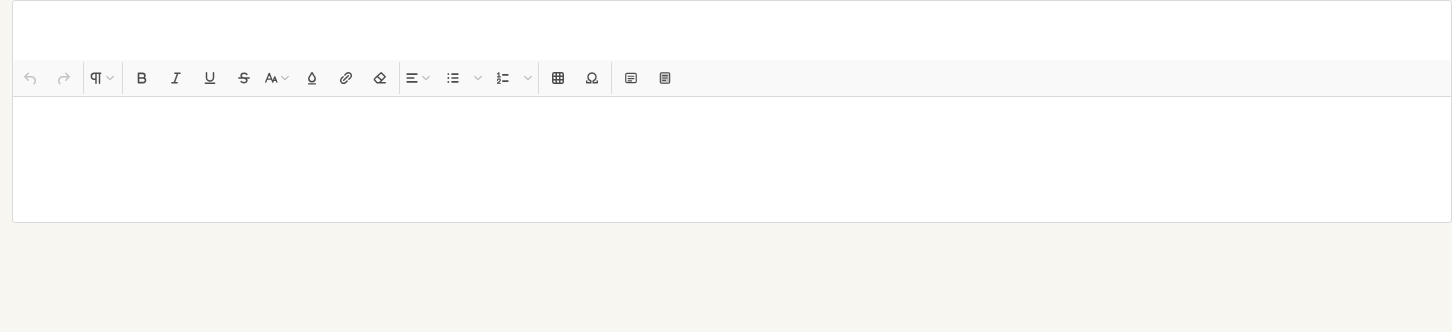
Test: special characters › replaces the selection, closes, and arrows move through the grid
This screenshot has width=1452, height=332.
Click the button named "Maxsus belgilar" at [592, 78], box [575,61,609,95]
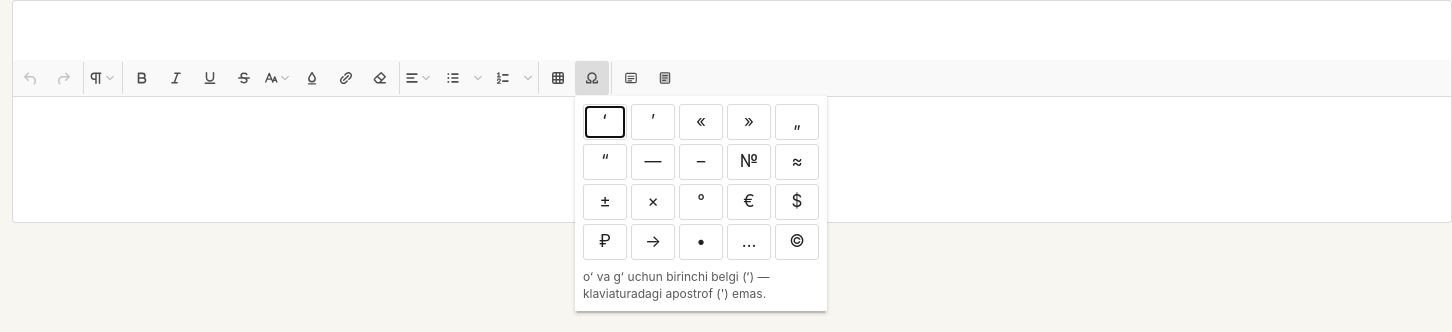
Press ArrowRight in the menu item with class "rich-editor__symbol" showing "ʻ", box [583,104,627,140]
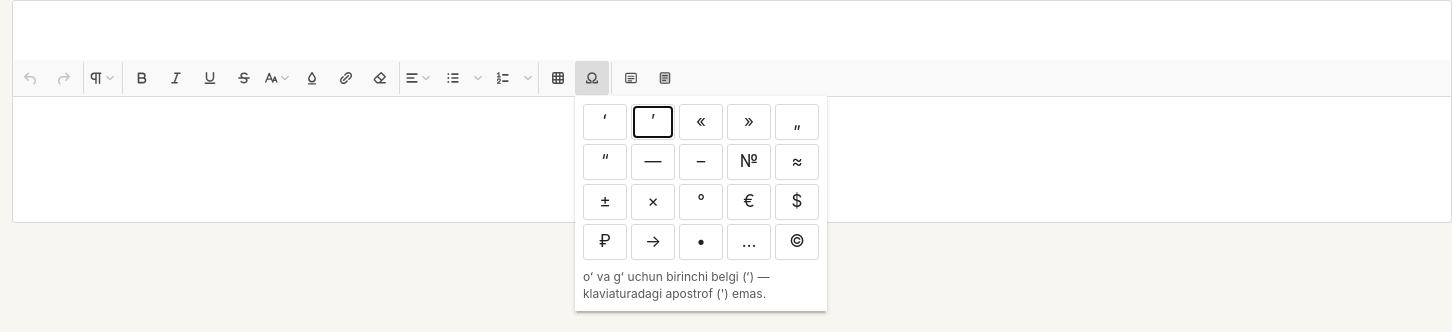
Press ArrowDown in the menu item with class "rich-editor__symbol" showing "ʼ", box [631,104,675,140]
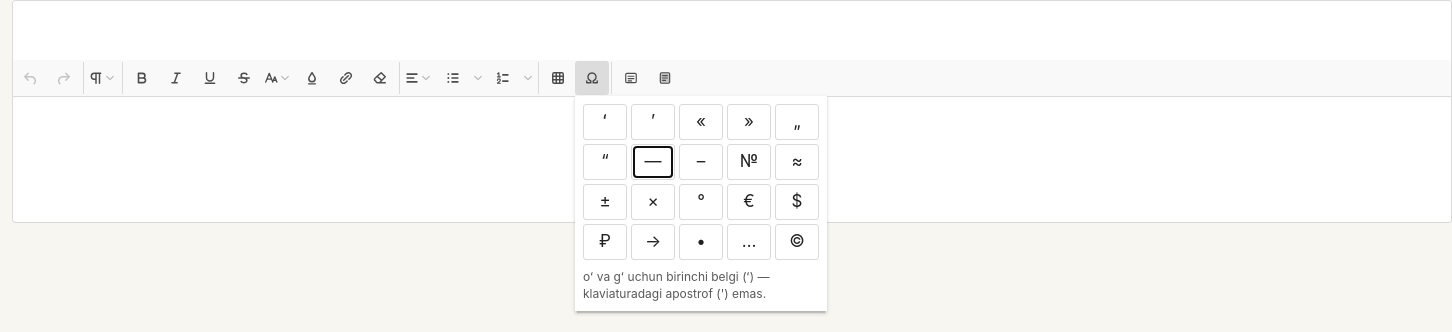
Click the menu item with class "rich-editor__symbol" showing "—" at [653, 162], box [631,144,675,180]
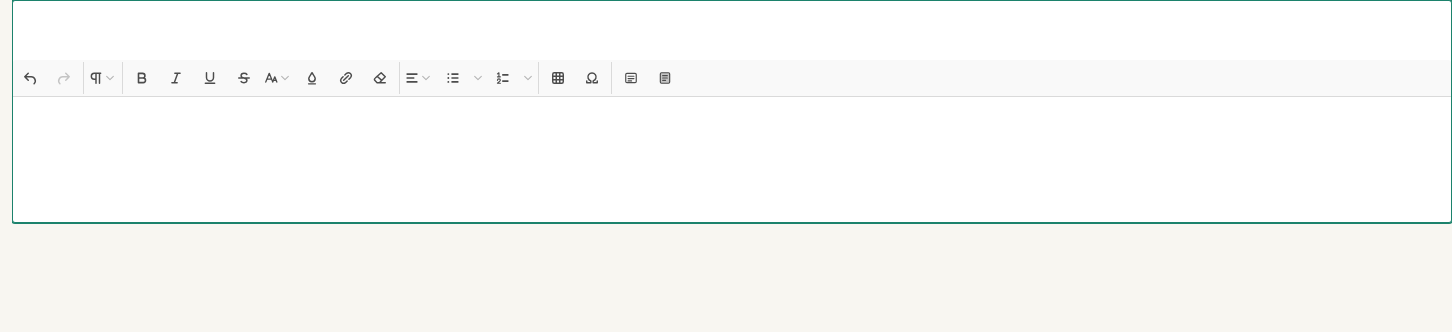
Expected: the menu item with class "rich-editor__symbol" is gone
